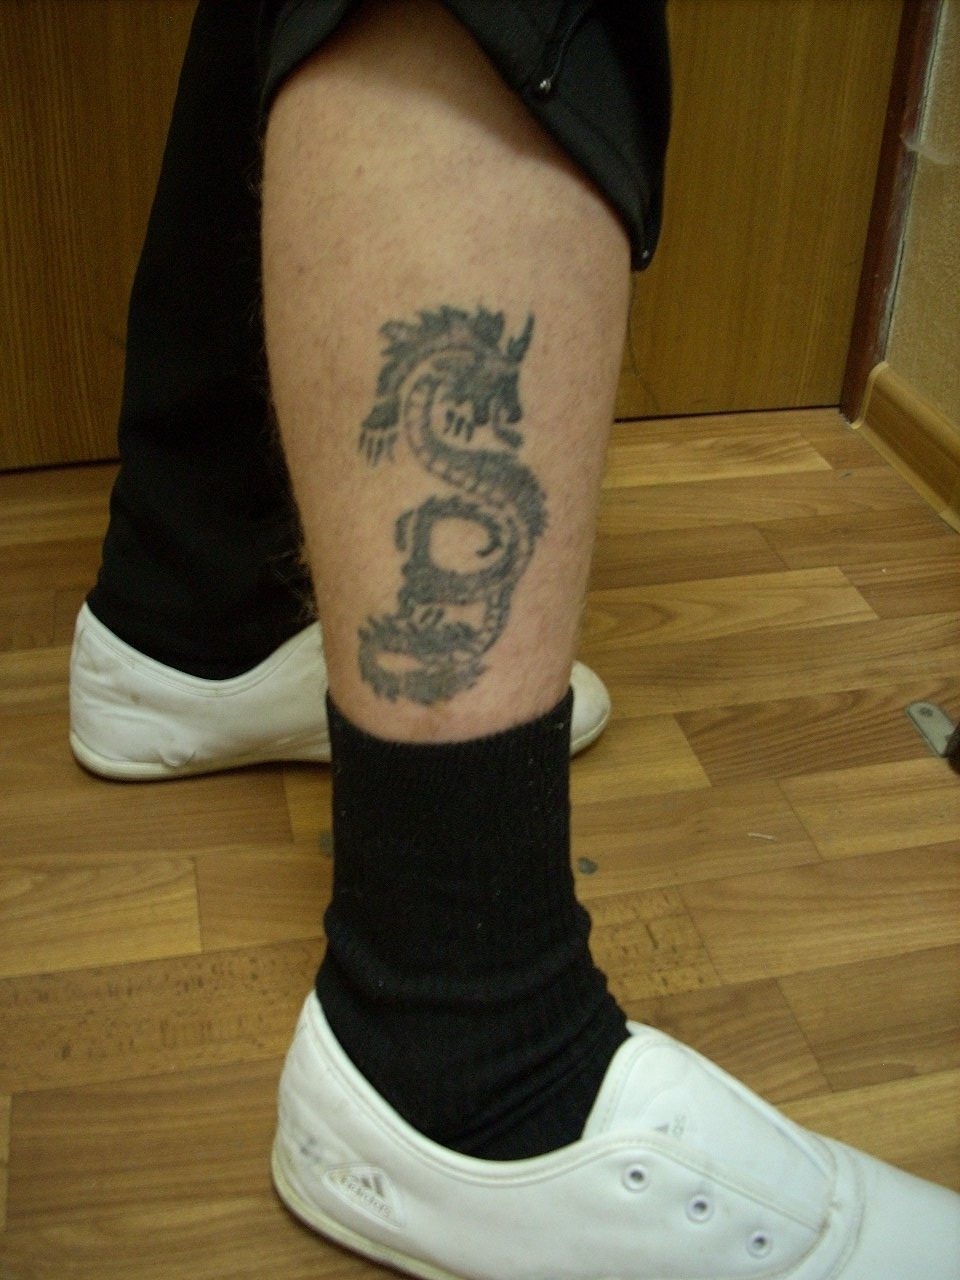tatu6_drakon: (314, 262, 617, 761)
